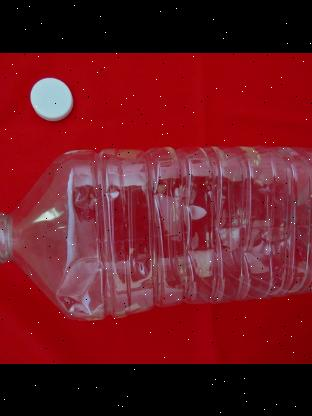Plastic Bottle: (0, 144, 312, 320)
